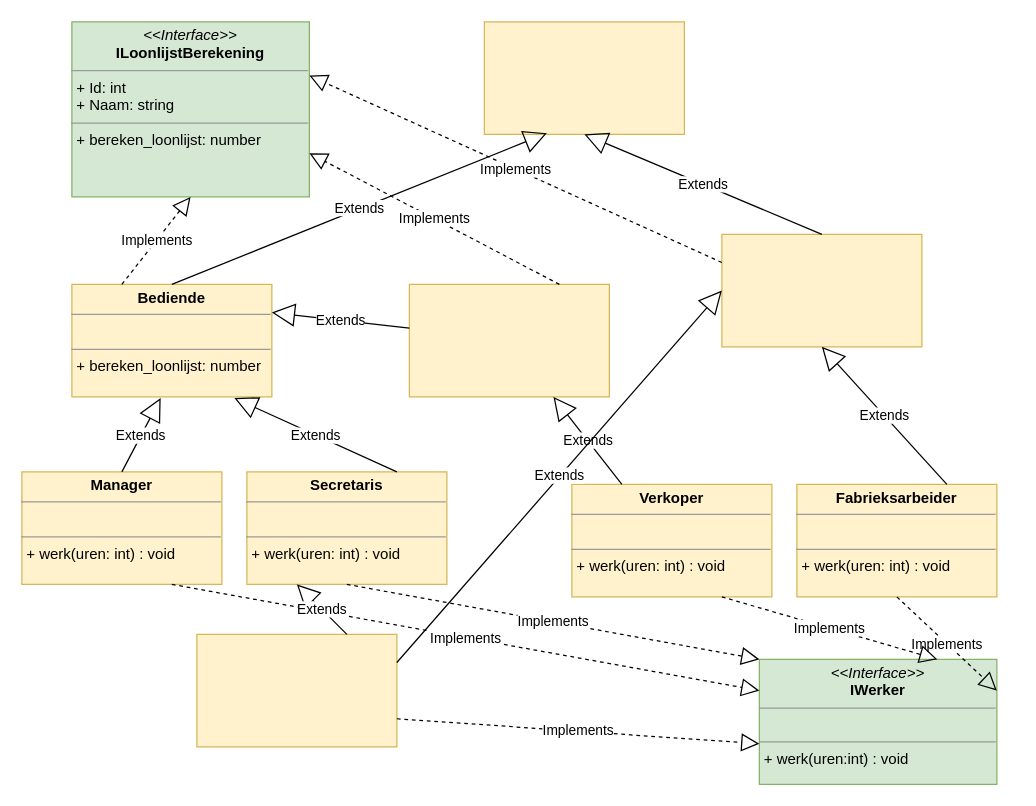
This 1036x806 diagram has some shape labels left out. Here are the shapes that lost their labels. From the top down, the box of each, then its label:
(483, 21, 684, 134): Werknemer + id: int + naam: string
(721, 233, 922, 347): Arbeider + bereken_loonlijst: number
(408, 283, 609, 397): CommissieMedewerker + bereken_loonlijst: number
(196, 633, 397, 747): TijdelijkeSecretaris + werk(uren: int) : void
